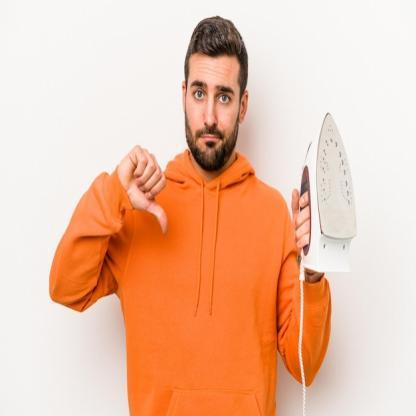thumb_down: (118, 142, 170, 235)
